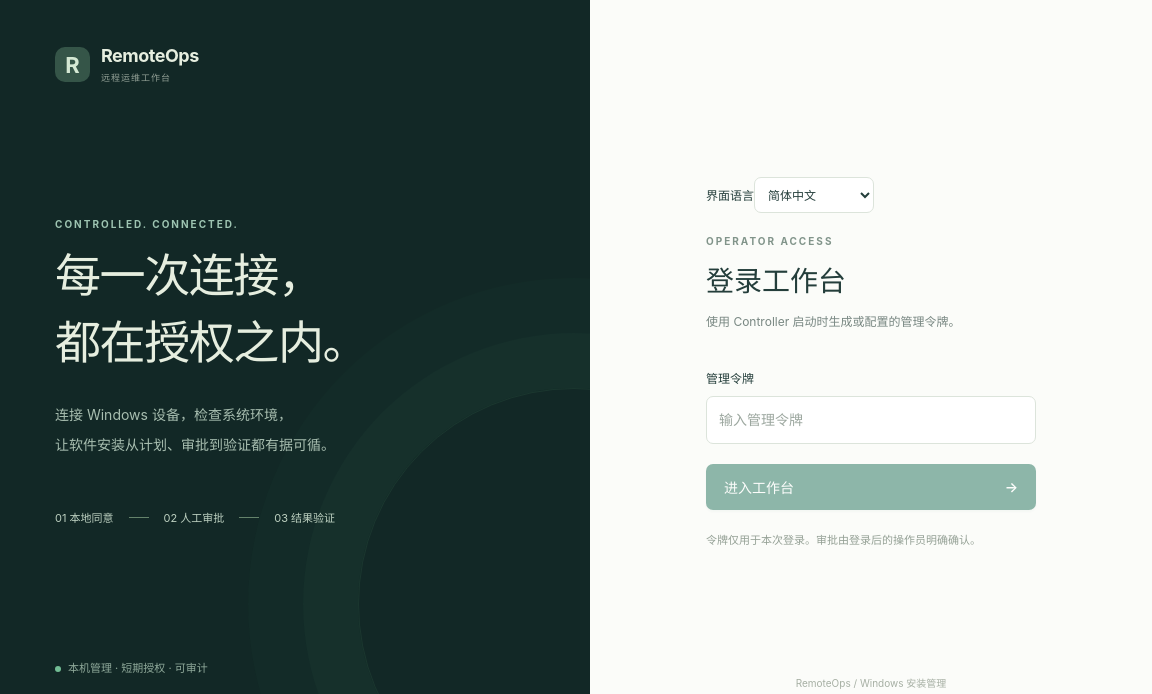
Test: management UI › shows the precise pairing authorization duration independently of current configuration
Type "test-token" into the password field labelled "管理令牌". click: x=871, y=420
box: [706, 396, 1036, 444]
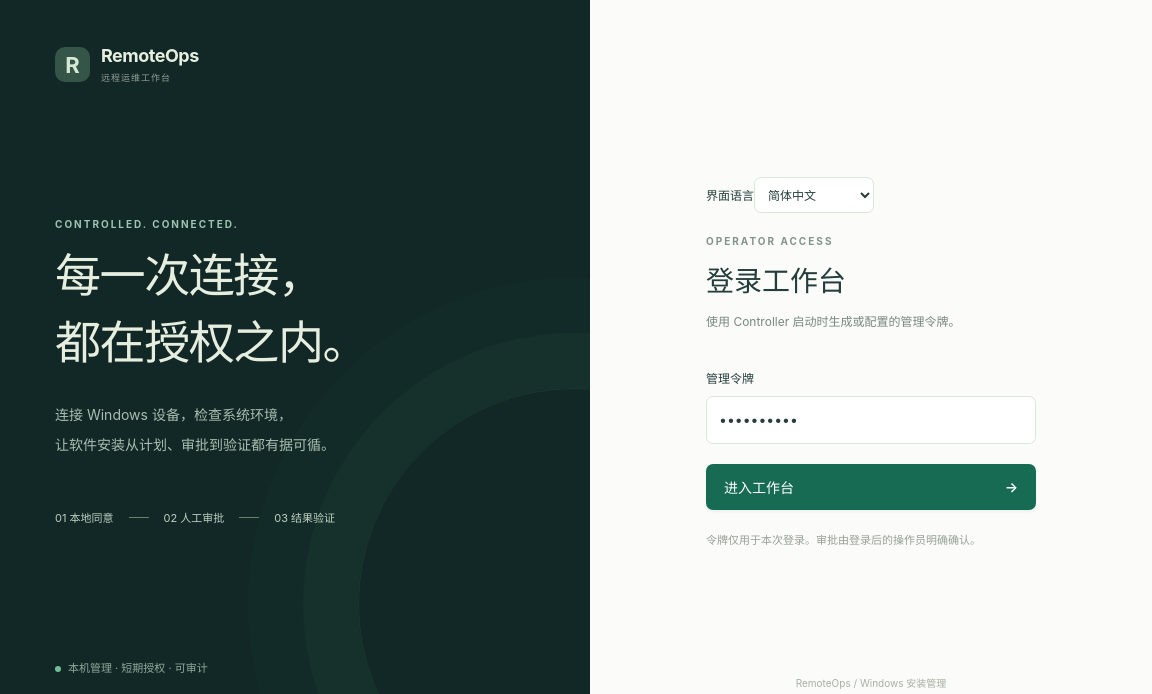
Submit the form, box [706, 169, 1036, 551]
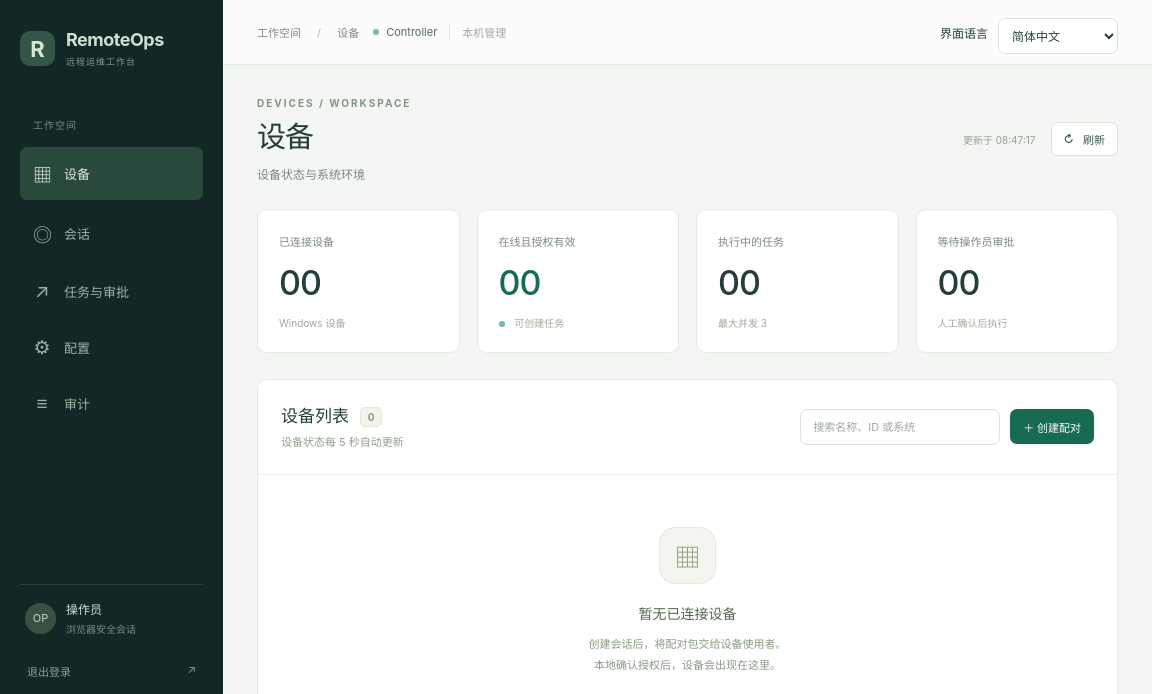
Click the button "◎ 会话". click: x=112, y=234
box: [20, 207, 203, 260]
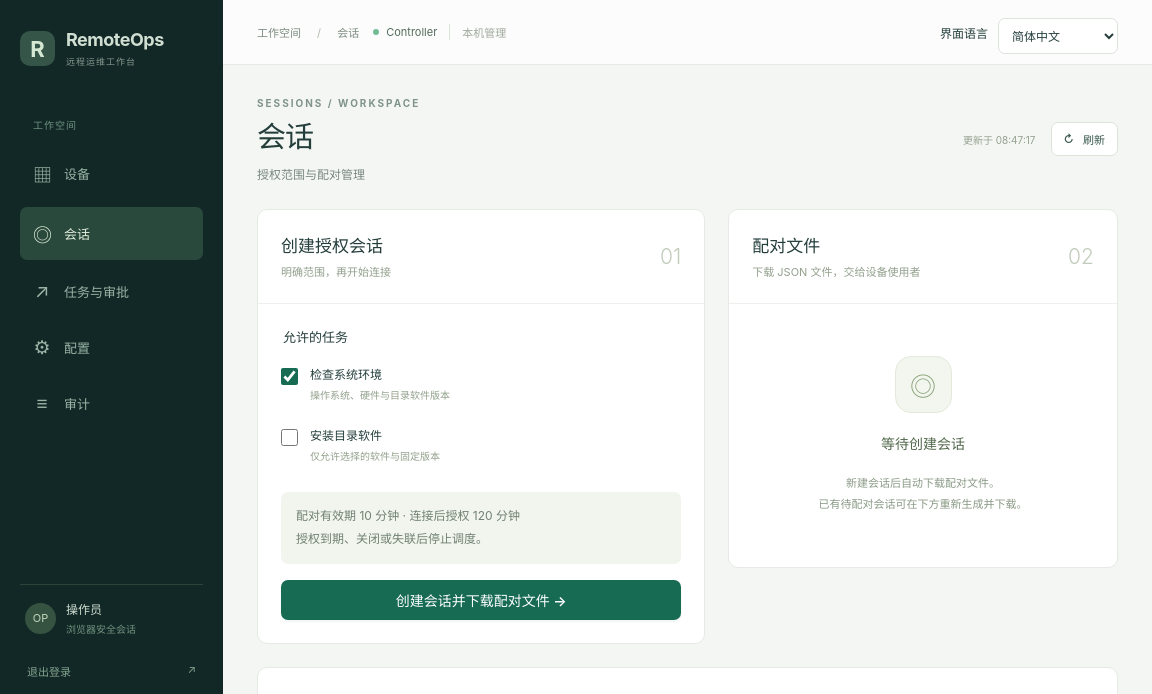
Submit the form, box [258, 304, 704, 643]
(page scrolled)
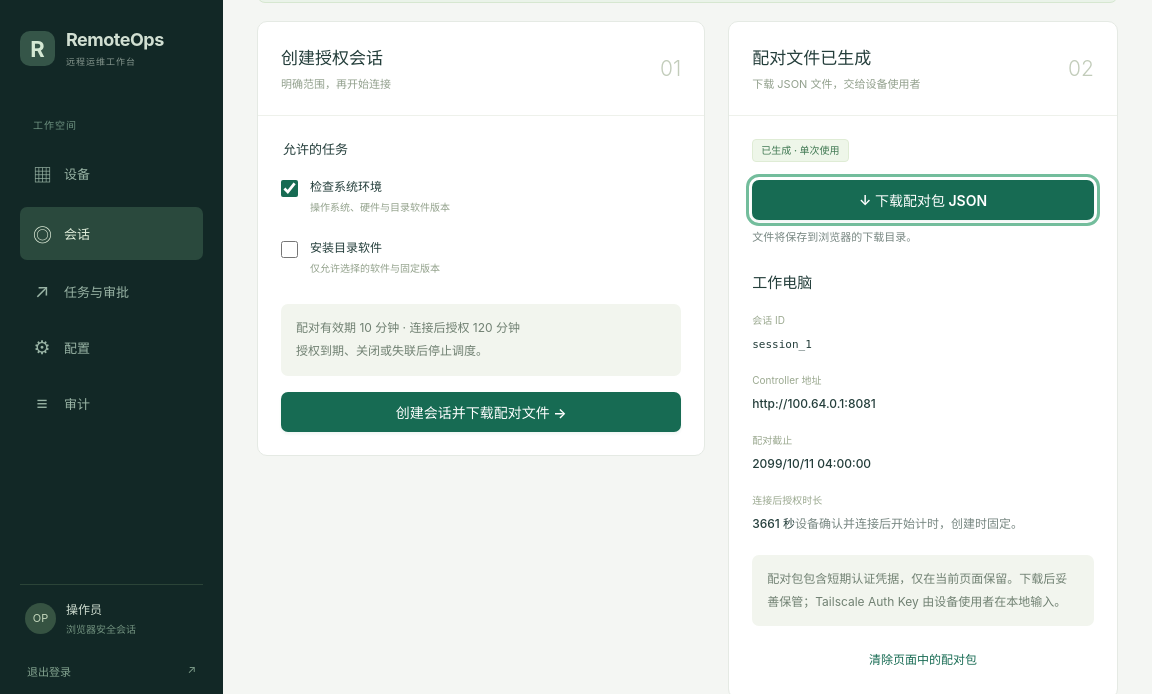
expect the element that starts with "配对文件已生成" shows "连接后授权时长": met, box [752, 494, 822, 506]
expect the element that starts with "配对文件已生成" shows "3661 秒": met, box [752, 516, 795, 531]
